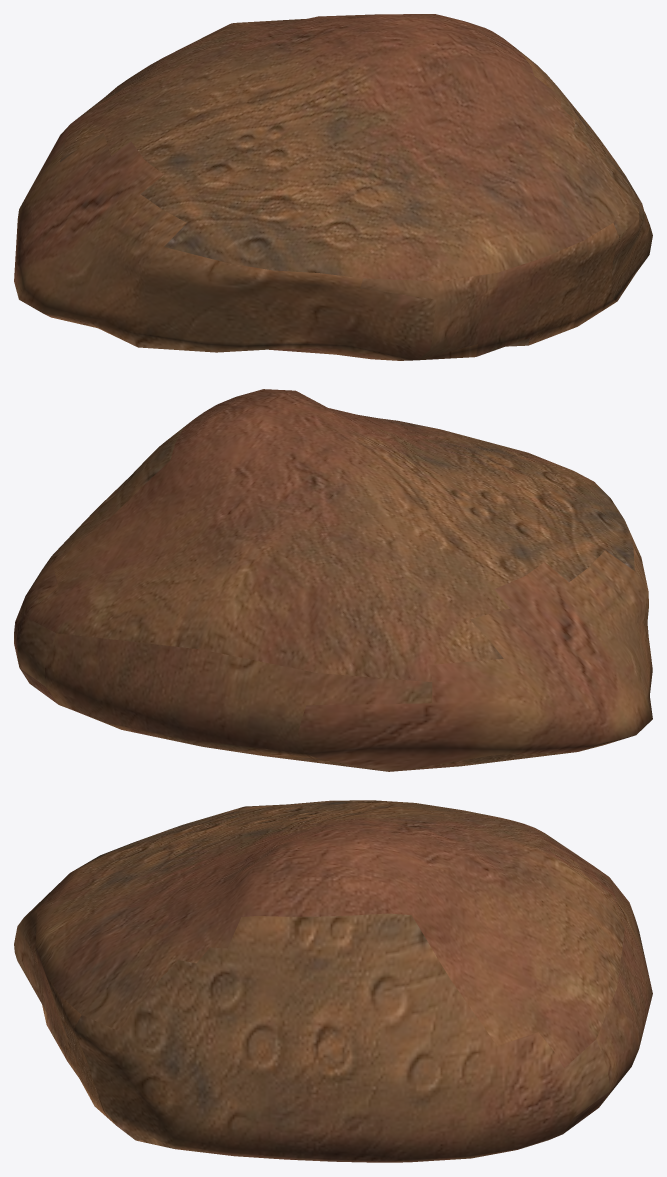
File: MarsRock11.obj
The picture shows the model from 3 angles, top to bottom: view 1: azimuth 30°, elevation 25°; view 2: azimuth 150°, elevation 25°; view 3: azimuth 270°, elevation 25°; orthographic projection. The views are drawn at different scales.
Visible parts, largest first — view 1: Rocks4; view 2: Rocks4; view 3: Rocks4.
Part boxes in pixels (left/top/right/bottom): Rocks4: left=14, top=14, right=652, bottom=360; Rocks4: left=14, top=389, right=652, bottom=771; Rocks4: left=14, top=800, right=652, bottom=1162.
Size of the model in its own units: 0.7554 by 0.3194 by 0.714.
Materials: 1 (1 with a texture image).
